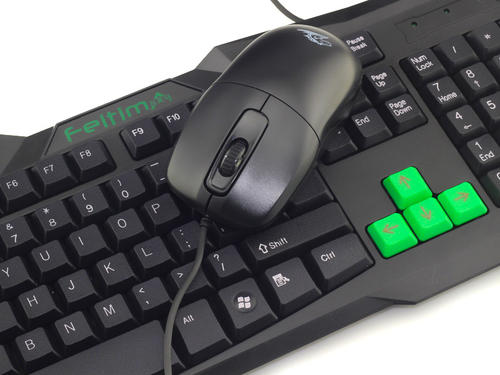keyboard: (3, 4, 500, 373)
mouse: (169, 23, 362, 227)
